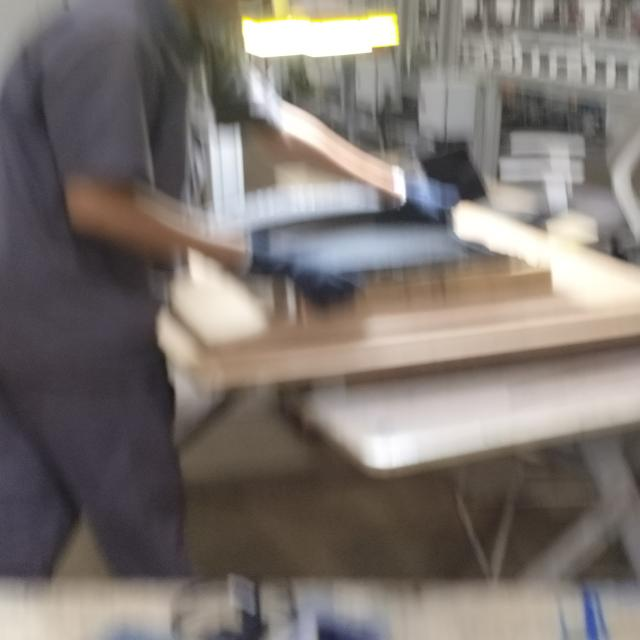Gloves-Detection: (249, 246, 325, 293), (397, 174, 447, 213)
